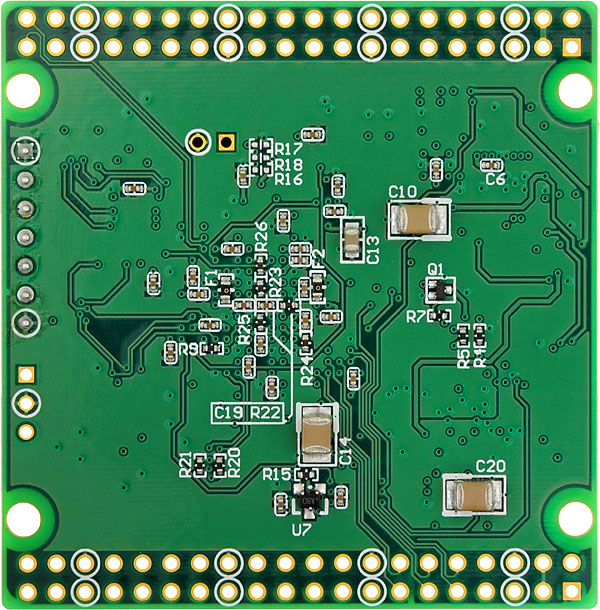capacitor C10: (388, 200, 450, 238)
capacitor C13: (342, 218, 364, 262)
capacitor C14: (298, 404, 336, 465)
capacitor C19: (256, 299, 277, 312)
capacitor C20: (445, 475, 505, 514)
capacitor C6: (480, 158, 505, 171)
component text" 06Y: (301, 496, 316, 506)
connector CN1: (8, 358, 46, 446)
connector CNA: (12, 552, 587, 605)
connector CNB: (9, 6, 589, 64)
connector TP2: (184, 129, 239, 158)
ic U7: (294, 483, 327, 514)
inductor F1: (219, 274, 234, 306)
inductor F2: (310, 270, 325, 304)
pads R16: (250, 164, 273, 175)
pads R17: (250, 137, 273, 150)
pads R18: (249, 151, 273, 162)
pins CN2: (6, 133, 41, 342)
resistor R15: (295, 468, 318, 481)
resistor R20: (213, 453, 227, 479)
resistor R21: (194, 453, 206, 477)
resistor R22: (278, 299, 301, 311)
resistor R23: (256, 276, 268, 297)
resistor R24: (299, 331, 313, 355)
resistor R25: (254, 312, 267, 334)
resistor R26: (256, 253, 267, 276)
resistor R4: (474, 325, 486, 347)
resistor R5: (459, 323, 469, 347)
resistor R7: (427, 310, 451, 322)
resistor R9: (201, 343, 224, 355)
text C10: (387, 183, 417, 198)
text C13: (366, 234, 380, 266)
text C19: (214, 404, 244, 420)
text C20: (475, 458, 507, 473)
text C6: (485, 172, 507, 186)
text F1: (203, 268, 218, 286)
text F2: (313, 248, 327, 269)
text Q1: (425, 261, 445, 276)
text R15: (261, 466, 292, 483)
text R16: (274, 172, 304, 187)
text R17: (275, 141, 303, 156)
text R18: (275, 157, 304, 172)
text R20: (227, 445, 242, 478)
text R21: (177, 450, 192, 481)
text R22: (247, 404, 281, 420)
text R23: (268, 266, 283, 297)
text R24: (298, 355, 315, 388)
text R25: (236, 314, 252, 348)
text R36: (253, 221, 269, 251)
text R4: (473, 349, 487, 368)
text R5: (456, 349, 471, 370)
text R7: (405, 308, 426, 324)
text R9: (178, 341, 199, 357)
text U7: (290, 522, 312, 538)
transistor Q1: (427, 278, 455, 303)
unknown UNLABELED: (319, 309, 343, 324), (276, 209, 291, 232), (289, 240, 312, 254), (164, 341, 178, 364), (347, 367, 361, 390), (274, 493, 288, 516), (301, 129, 325, 142), (198, 318, 222, 331), (123, 182, 146, 195), (299, 308, 312, 331), (254, 335, 268, 356), (431, 158, 443, 182), (332, 174, 344, 197), (221, 243, 244, 255), (299, 277, 311, 300), (243, 355, 255, 378), (291, 254, 313, 266), (187, 266, 199, 288), (188, 288, 210, 300), (266, 376, 278, 398), (335, 486, 347, 507), (239, 165, 250, 187), (324, 205, 346, 216), (148, 272, 159, 293), (233, 300, 255, 310)
